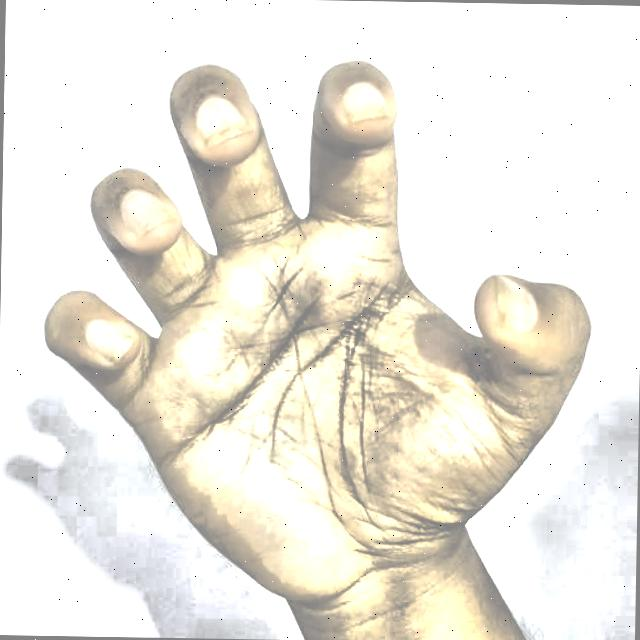Ja: (32, 27, 602, 640)
